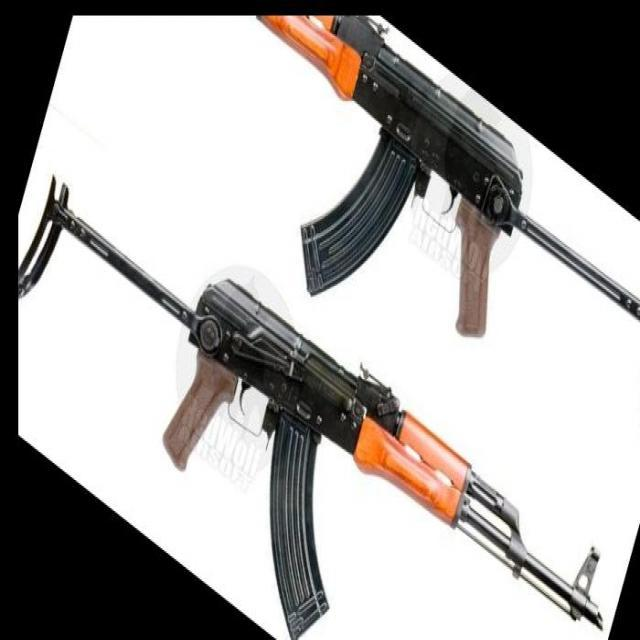weapon: (18, 173, 604, 640), (255, 14, 640, 338)
